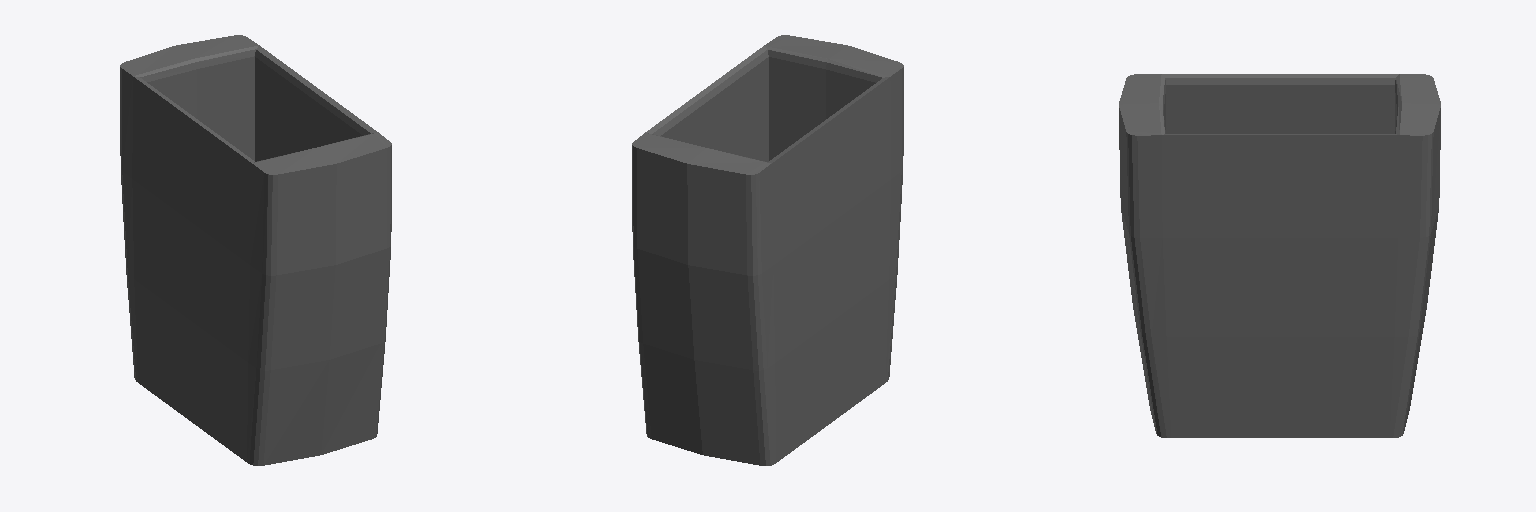
The model's file is trashcando.obj.
The picture shows the model from 3 angles: view 1: azimuth 30°, elevation 25°; view 2: azimuth 150°, elevation 25°; view 3: azimuth 270°, elevation 25°; orthographic projection.
Visible parts, largest first — view 1: Box001; view 2: Box001; view 3: Box001.
Boxes of the visible parts, box(x1,y1,x2,y2) form: Box001: box(120, 35, 391, 465); Box001: box(632, 35, 903, 465); Box001: box(1119, 74, 1440, 437).
Size of the model in its own units: 0.3048 by 0.6901 by 0.6608.